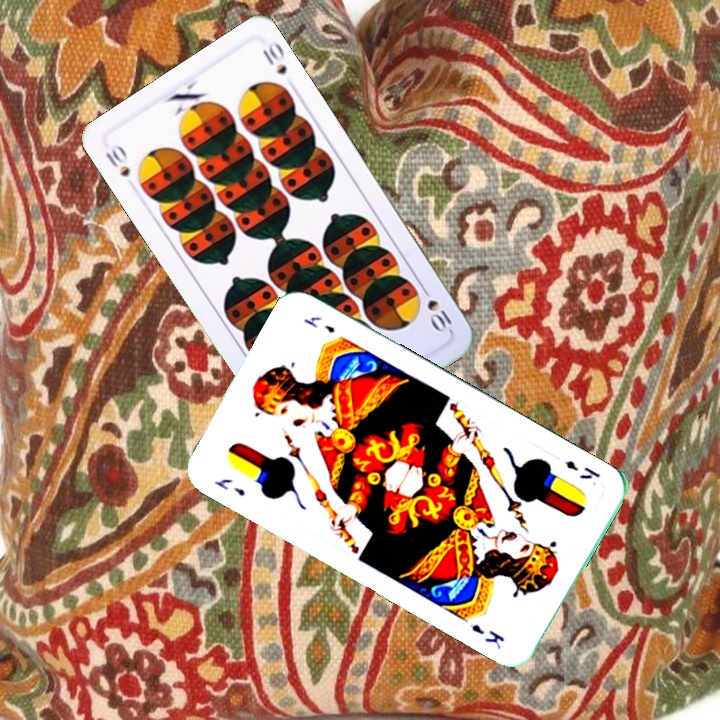EK: (561, 456, 603, 482), (210, 474, 248, 499)
S10: (416, 281, 457, 337), (101, 140, 133, 180)
